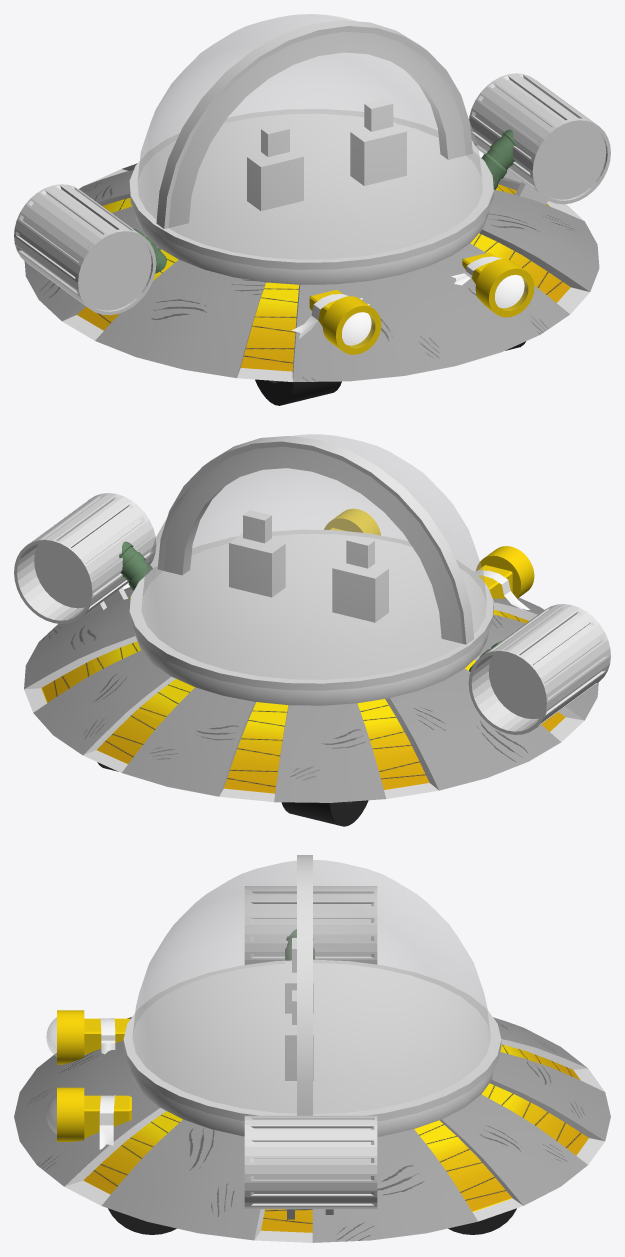
Rendered from ricks_ship_from_rick_and_morty.glb.
The picture shows the model from 3 angles, top to bottom: view 1: azimuth 30°, elevation 25°; view 2: azimuth 150°, elevation 25°; view 3: azimuth 270°, elevation 25°; orthographic projection. The views are drawn at different scales.
Visible parts, largest first — view 1: Circle, Sphere.001, Cylinder, Circle.002, Cube.003, Cube, Cube.004, Cylinder.001, Cylinder.002, Plane, Sphere.002, Sphere.003; view 2: Circle, Sphere.001, Cylinder, Circle.002, Cube.004, Cube, Cube.003, Cylinder.001, Cylinder.002; view 3: Circle, Sphere.001, Cylinder, Cube.003, Circle.002, Cylinder.001, Plane, Cube, Cube.004.
Part boxes in pixels (box(x1,y1,x2,y2)): Circle: box(24, 109, 599, 381); Sphere.001: box(138, 14, 482, 259); Cylinder: box(14, 73, 610, 315); Circle.002: box(156, 20, 472, 228); Cube.003: box(309, 252, 534, 354); Cube: box(350, 98, 406, 185); Cube.004: box(247, 124, 303, 210); Cylinder.001: box(255, 341, 525, 405); Cylinder.002: box(134, 129, 516, 273); Plane: box(292, 256, 501, 338); Sphere.002: box(342, 312, 374, 347); Sphere.003: box(495, 275, 527, 310); Circle: box(24, 529, 598, 802); Sphere.001: box(141, 434, 486, 679); Cylinder: box(14, 493, 610, 734); Circle.002: box(157, 436, 473, 644); Cube.004: box(332, 535, 388, 622); Cube: box(229, 510, 285, 597); Cube.003: box(324, 508, 534, 598); Cylinder.001: box(97, 762, 368, 826); Cylinder.002: box(119, 541, 501, 671); Circle: box(14, 959, 610, 1242); Sphere.001: box(132, 860, 490, 1113); Cylinder: box(244, 886, 377, 1209); Cube.003: box(57, 1010, 131, 1142); Circle.002: box(297, 855, 312, 1115); Cylinder.001: box(108, 1208, 516, 1234); Plane: box(99, 1018, 115, 1149); Cube: box(285, 990, 313, 1080); Cube.004: box(285, 938, 313, 1013).
Size of the model in its own units: 213 by 112 by 200.
Materials: 16 (2 with a texture image).
